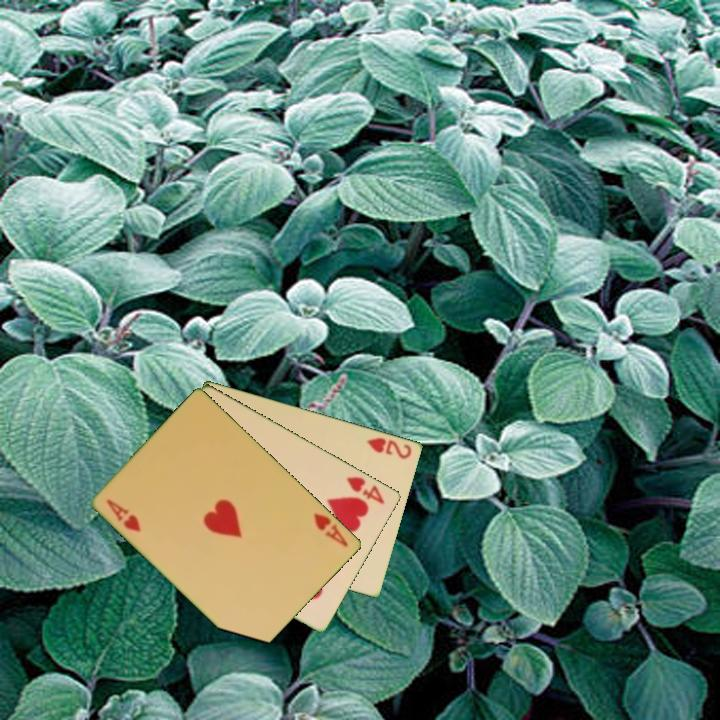2h: (363, 434, 415, 462)
4h: (343, 473, 388, 507)
Ah: (310, 509, 352, 550), (103, 495, 145, 535)
